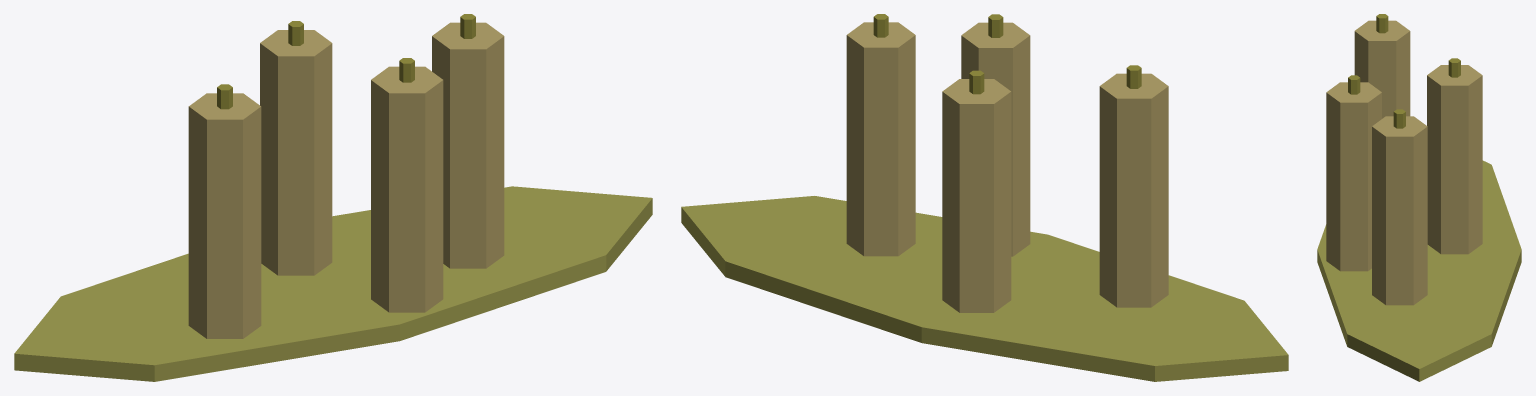
Rendered from CandleCollection4.fbx.
3 renders of one model, left to right at view 1: azimuth 30°, elevation 25°; view 2: azimuth 150°, elevation 25°; view 3: azimuth 270°, elevation 25°, orthographic. The views are drawn at different scales.
Parts seen in each view (by area): view 1: quad_candle; view 2: quad_candle; view 3: quad_candle.
Part boxes in pixels (x1,y1,x2,y2): quad_candle: (14,14,652,381); quad_candle: (681,14,1288,381); quad_candle: (1317,14,1521,381).
Size of the model in its own units: 90.12 by 34.43 by 32.49.
